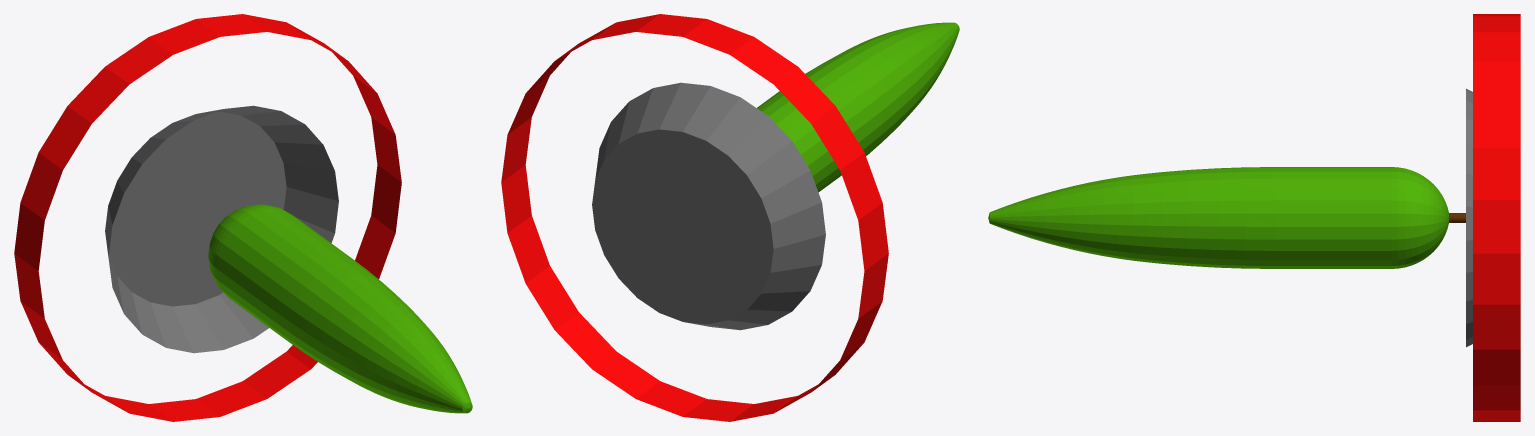
The model's file is LPK7m.obj.
3 renders of one model, left to right at view 1: azimuth 30°, elevation 25°; view 2: azimuth 150°, elevation 25°; view 3: azimuth 270°, elevation 25°, orthographic. The views are drawn at different scales.
Bounding box in the file's own units: 6 × 6 × 7.8.
